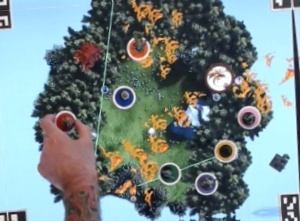blue: (109, 81, 137, 110)
green: (156, 156, 185, 186), (212, 134, 240, 163)
orange: (125, 33, 151, 61)
pink: (235, 100, 266, 130)
red: (51, 106, 78, 135)
violet: (195, 168, 221, 194)
